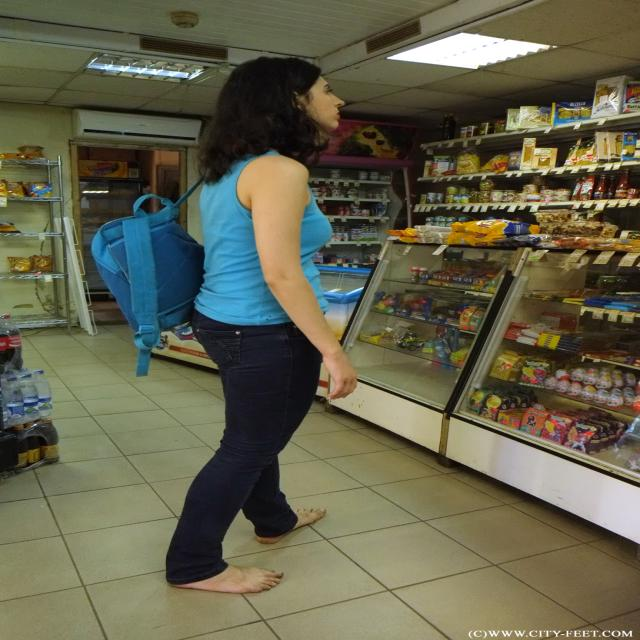No Safety Boots: (168, 564, 284, 594), (256, 507, 326, 544)
